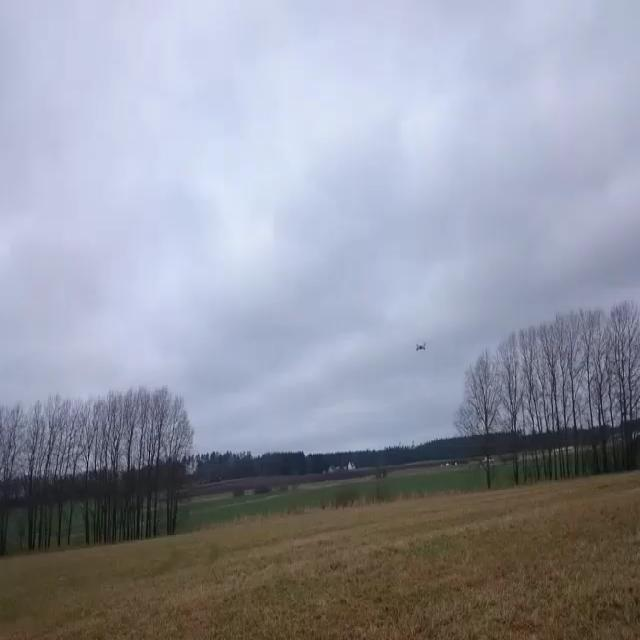Drone: (402, 330, 429, 357)
